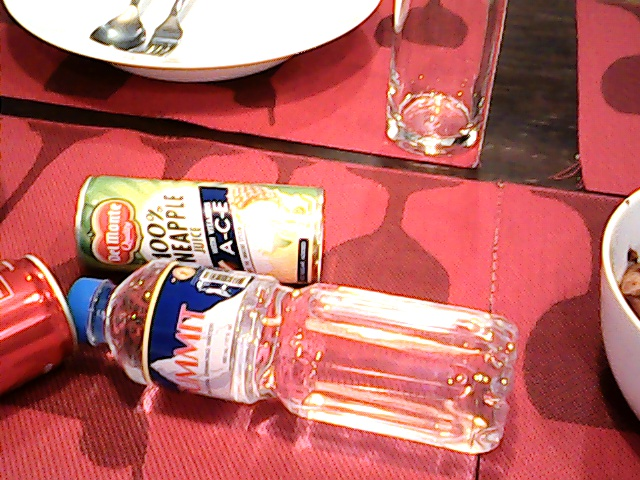Pine Juice: (64, 136, 340, 259)
Summit Water: (68, 267, 522, 447)
